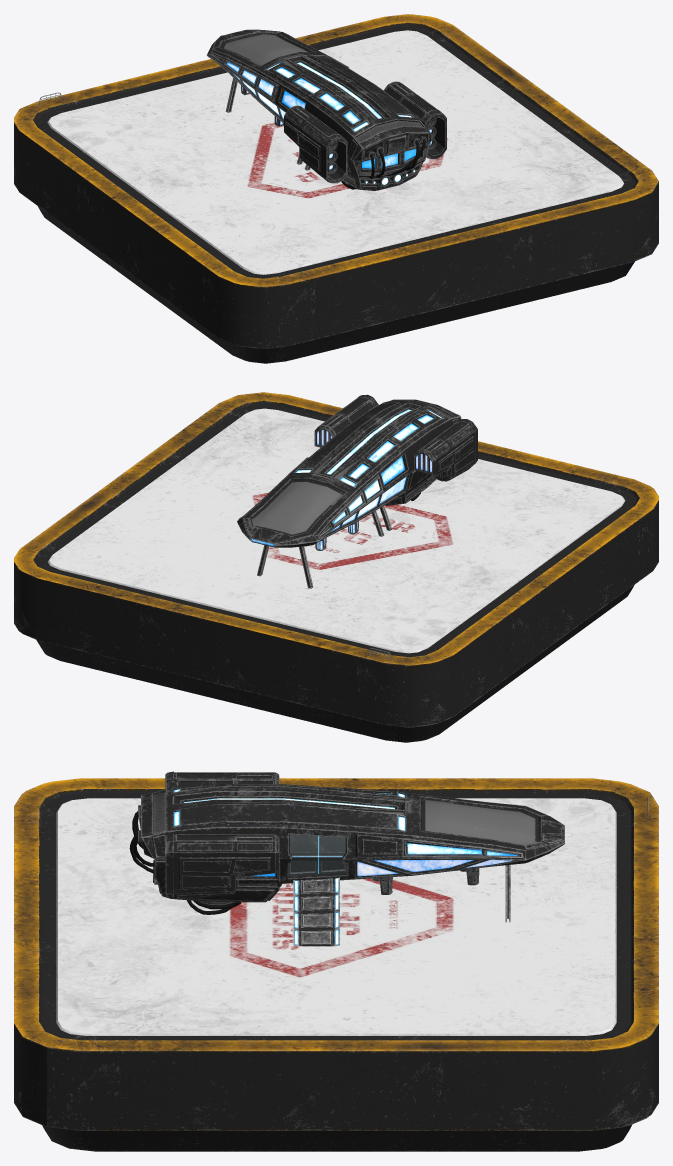
Rendered from SUP_ship___fantasy_industrial_scifi_hall_jfg.glb.
The picture shows the model from 3 angles, top to bottom: view 1: azimuth 30°, elevation 25°; view 2: azimuth 150°, elevation 25°; view 3: azimuth 270°, elevation 25°; orthographic projection. The views are drawn at different scales.
Visible parts, largest first — view 1: SUP_ship___fantasy_industrial_scifi_hall_jfg; view 2: SUP_ship___fantasy_industrial_scifi_hall_jfg; view 3: SUP_ship___fantasy_industrial_scifi_hall_jfg.
Boxes of the visible parts, x1,y1,x2,y2 form: SUP_ship___fantasy_industrial_scifi_hall_jfg: (14,14,658,363); SUP_ship___fantasy_industrial_scifi_hall_jfg: (14,392,658,742); SUP_ship___fantasy_industrial_scifi_hall_jfg: (14,771,658,1151).
Size of the model in its own units: 6000 by 2299 by 6000.
10 materials, 10 textured.
